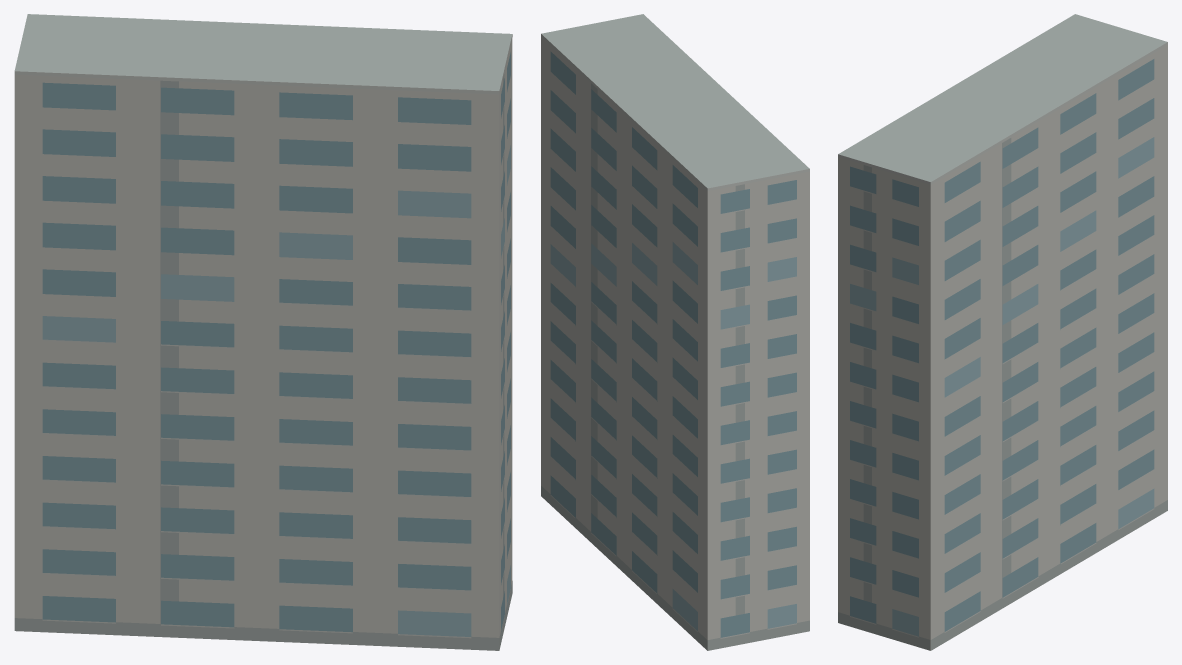
Rendered from residential-277866f1-4353-40f5-8477-453c33bf6fde.glb.
The picture shows the model from 3 angles, left to right: view 1: azimuth 30°, elevation 25°; view 2: azimuth 150°, elevation 25°; view 3: azimuth 270°, elevation 25°; orthographic projection. The views are drawn at different scales.
Visible parts, largest first — view 1: residential-277866f1-4353-40f5-8477-453c33bf6fde.tmp; view 2: residential-277866f1-4353-40f5-8477-453c33bf6fde.tmp; view 3: residential-277866f1-4353-40f5-8477-453c33bf6fde.tmp.
Boxes of the visible parts, <box> form: residential-277866f1-4353-40f5-8477-453c33bf6fde.tmp: <box>14,14,512,650</box>; residential-277866f1-4353-40f5-8477-453c33bf6fde.tmp: <box>541,14,809,650</box>; residential-277866f1-4353-40f5-8477-453c33bf6fde.tmp: <box>838,14,1167,650</box>.
Bounding box in the file's own units: 30.02 × 39 × 24.88.
